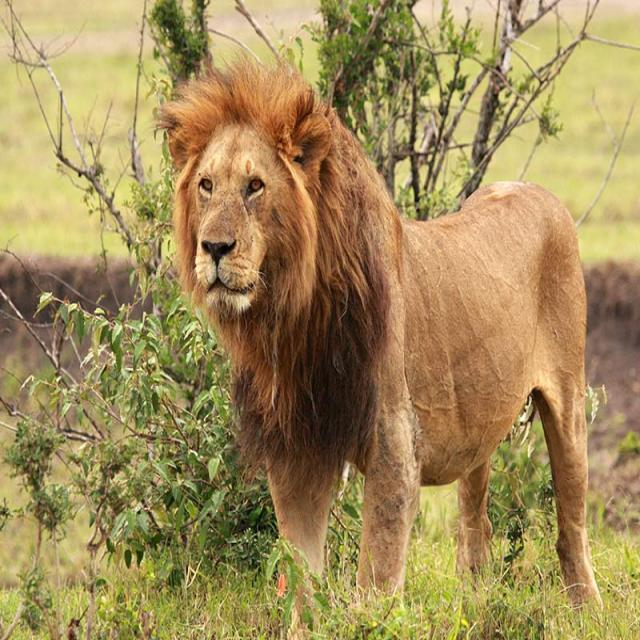lions: (85, 14, 621, 640)
